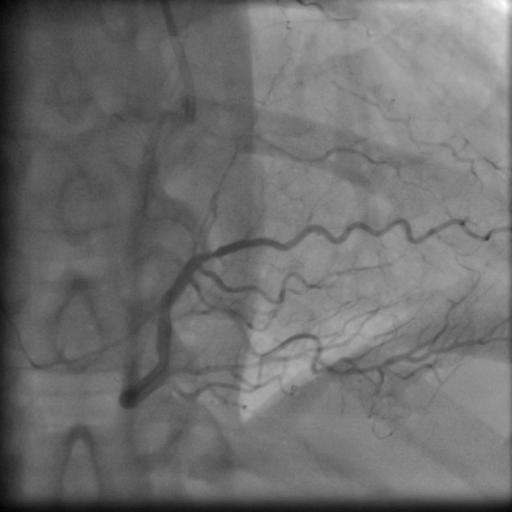Stenosis: (202, 244, 224, 265)
